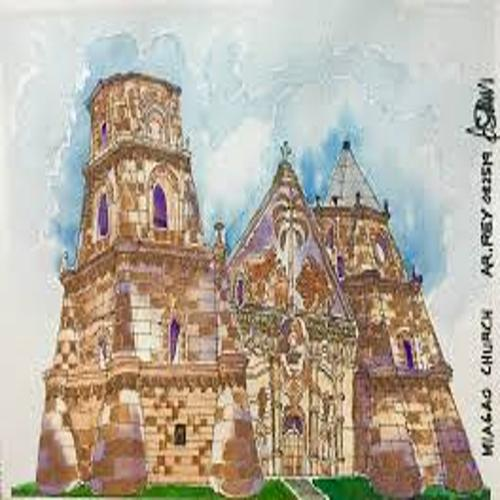Miagao Church: (64, 57, 473, 478)
